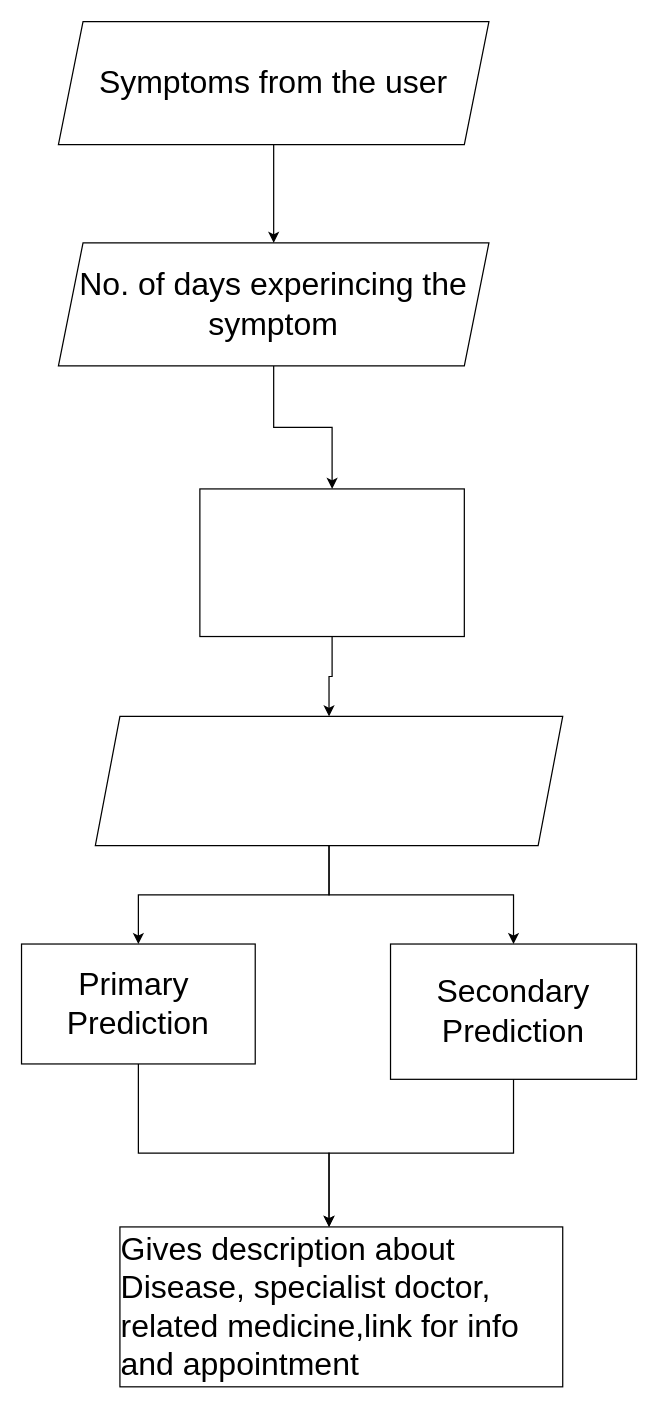
This 658x1408 diagram has some shape labels left out. The shapes that lost their labels are listed below. From the top down, each one's centre as x and y in pixels, then its label:
At pixel 331 562: "Decision Tree Model (finding node)".
At pixel 328 780: "Follow up symptoms from the user".
